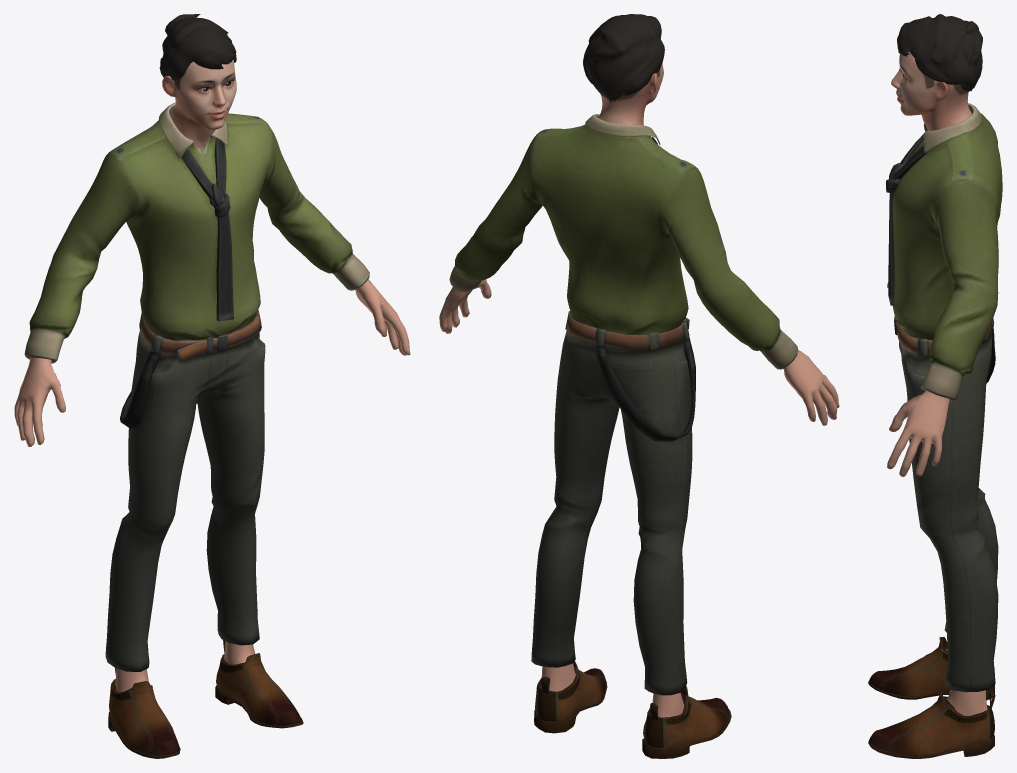
The model's file is avatar.gltf.
The picture shows the model from 3 angles, left to right: view 1: azimuth 30°, elevation 25°; view 2: azimuth 150°, elevation 25°; view 3: azimuth 270°, elevation 25°; orthographic projection.
Visible parts, largest first — view 1: Wolf3D_Outfit_Top, Wolf3D_Outfit_Bottom, Wolf3D_Outfit_Footwear, Wolf3D_Body, Wolf3D_Head, Wolf3D_Hair; view 2: Wolf3D_Outfit_Top, Wolf3D_Outfit_Bottom, Wolf3D_Outfit_Footwear, Wolf3D_Hair, Wolf3D_Body, Wolf3D_Head; view 3: Wolf3D_Outfit_Top, Wolf3D_Outfit_Bottom, Wolf3D_Outfit_Footwear, Wolf3D_Hair, Wolf3D_Body, Wolf3D_Head.
Part boxes in pixels (bbox=[...]): Wolf3D_Outfit_Top: bbox=[24, 102, 369, 363]; Wolf3D_Outfit_Bottom: bbox=[105, 310, 265, 671]; Wolf3D_Outfit_Footwear: bbox=[108, 640, 303, 758]; Wolf3D_Body: bbox=[14, 279, 410, 692]; Wolf3D_Head: bbox=[162, 59, 236, 148]; Wolf3D_Hair: bbox=[159, 14, 236, 80]; Wolf3D_Outfit_Top: bbox=[449, 114, 797, 369]; Wolf3D_Outfit_Bottom: bbox=[531, 311, 695, 695]; Wolf3D_Outfit_Footwear: bbox=[534, 661, 731, 758]; Wolf3D_Hair: bbox=[583, 14, 664, 102]; Wolf3D_Body: bbox=[439, 279, 839, 717]; Wolf3D_Head: bbox=[598, 63, 663, 125]; Wolf3D_Outfit_Top: bbox=[886, 103, 1002, 402]; Wolf3D_Outfit_Bottom: bbox=[894, 316, 998, 692]; Wolf3D_Outfit_Footwear: bbox=[868, 637, 995, 758]; Wolf3D_Hair: bbox=[897, 14, 982, 91]; Wolf3D_Body: bbox=[887, 282, 987, 715]; Wolf3D_Head: bbox=[891, 51, 971, 130].
Bounding box in the file's own units: 1.06 × 1.86 × 0.3227.
9 materials, 9 textured.
